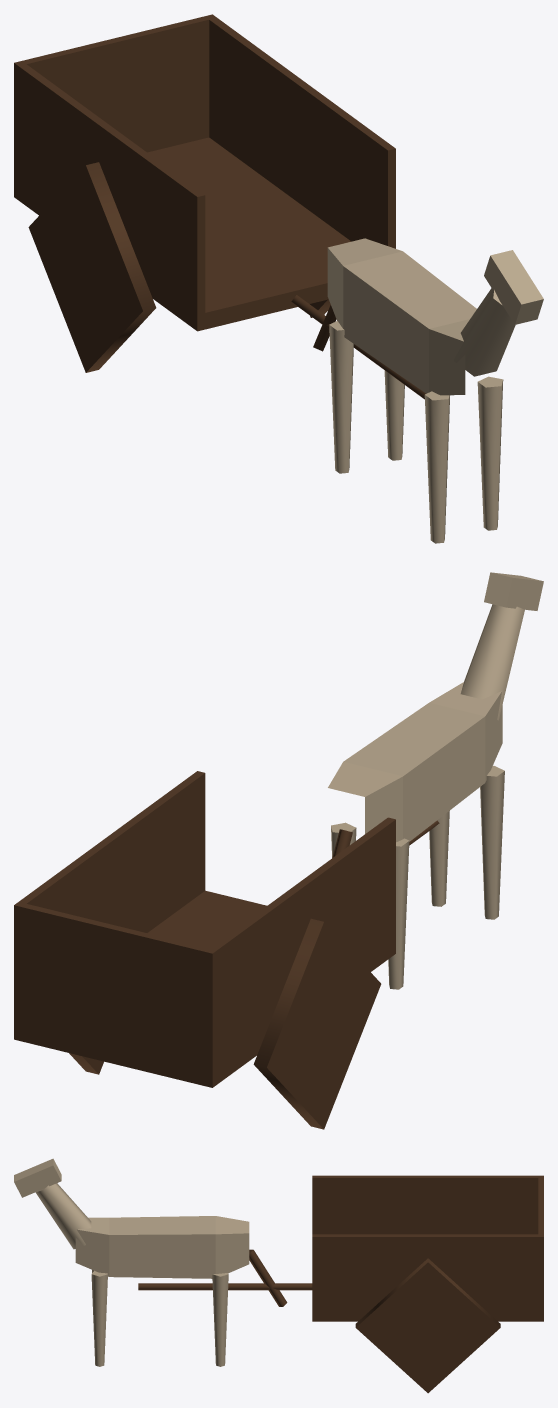
The model's file is veh_ground_cart_a04_lod2.glb.
3 views of the same model, one above another, from view 1: azimuth 30°, elevation 25°; view 2: azimuth 150°, elevation 25°; view 3: azimuth 270°, elevation 25° (orthographic). The views are drawn at different scales.
Parts seen in each view (by area): view 1: body, animal_0, wheel_0; view 2: body, animal_0, wheel_0; view 3: body, animal_0, wheel_1.
Part boxes in pixels (<box>): body: <box>14,14,425,399</box>; animal_0: <box>313,238,543,543</box>; wheel_0: <box>28,162,156,372</box>; body: <box>14,771,439,1087</box>; animal_0: <box>328,572,543,989</box>; wheel_0: <box>253,918,381,1129</box>; body: <box>138,1175,543,1321</box>; animal_0: <box>14,1158,287,1366</box>; wheel_1: <box>355,1258,500,1393</box>.
Bounding box in the file's own units: 1.8 × 2.23 × 5.49.
